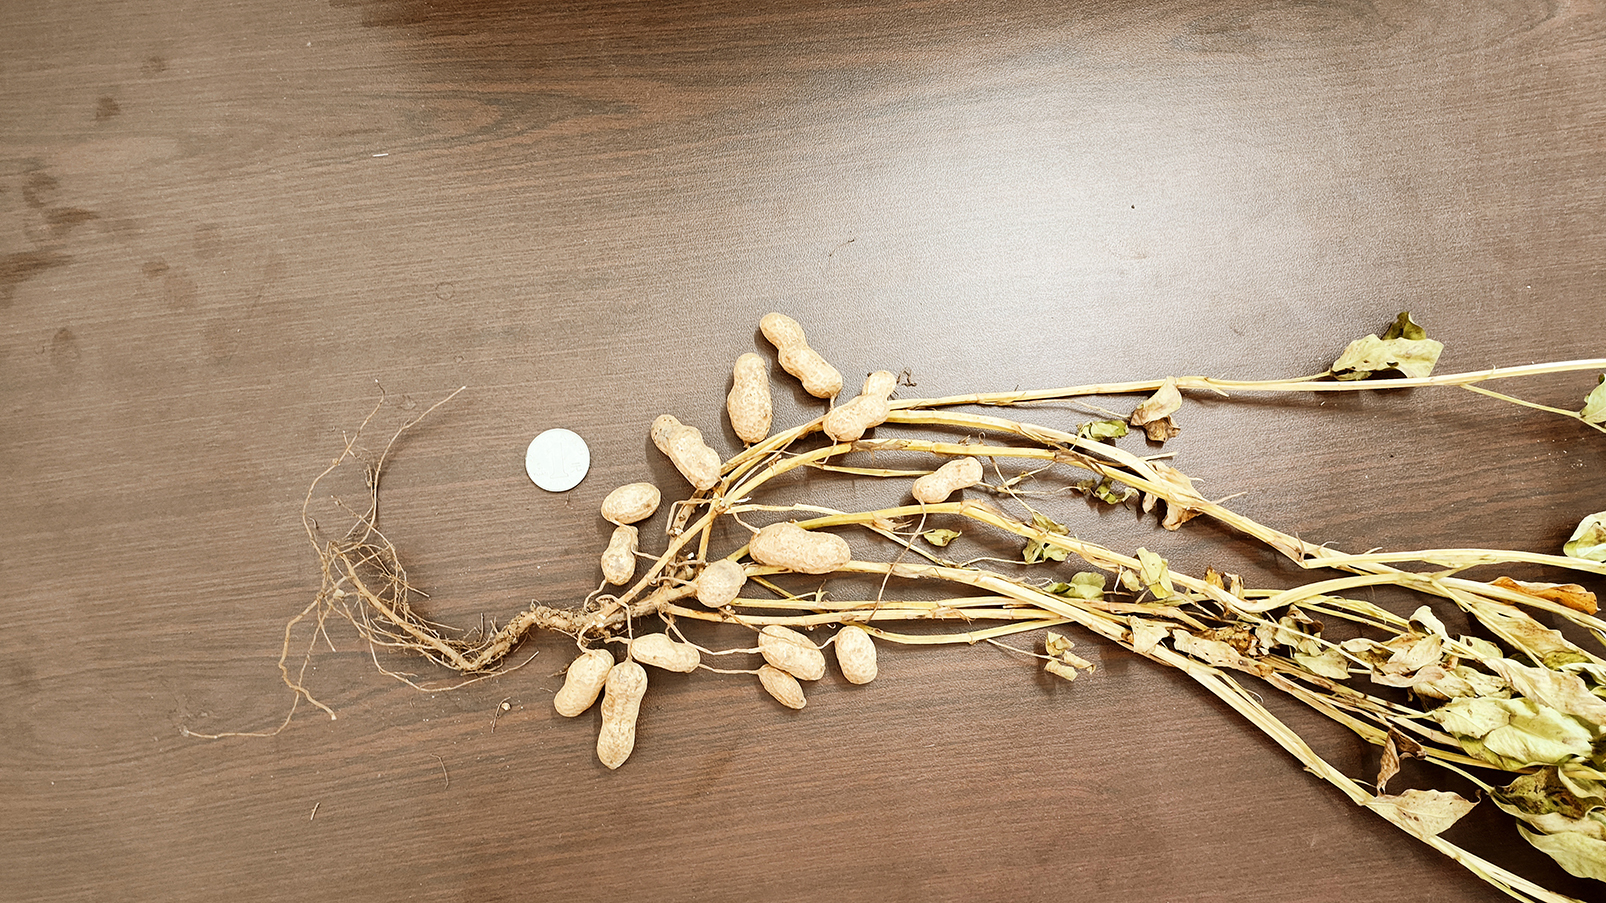h: (759, 311, 842, 397), (821, 370, 900, 444), (748, 522, 850, 577), (596, 662, 647, 770), (650, 413, 721, 491), (555, 647, 612, 714), (759, 623, 824, 680), (909, 453, 981, 504), (728, 354, 771, 438), (630, 631, 702, 671), (834, 625, 876, 686), (696, 558, 745, 609), (756, 666, 805, 712), (598, 524, 636, 581), (602, 485, 661, 523)
